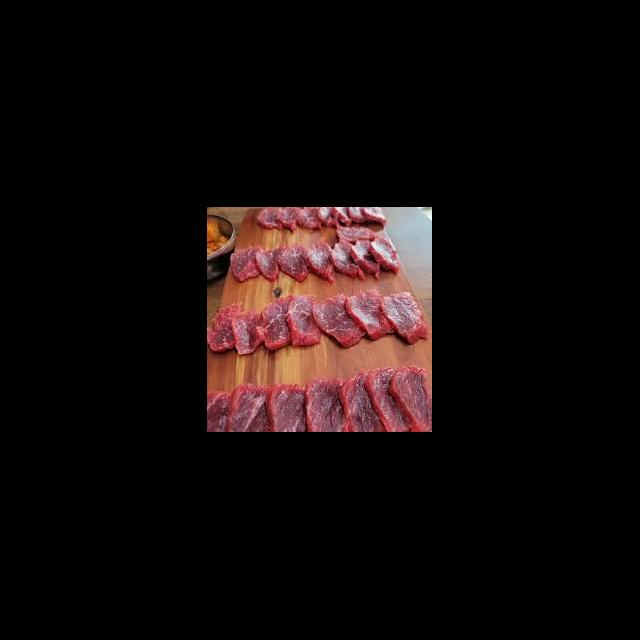beef: (391, 365, 432, 432), (343, 370, 387, 432), (384, 290, 429, 346), (315, 296, 364, 347), (230, 304, 268, 358), (268, 382, 307, 431), (286, 298, 318, 346), (276, 238, 306, 288)
